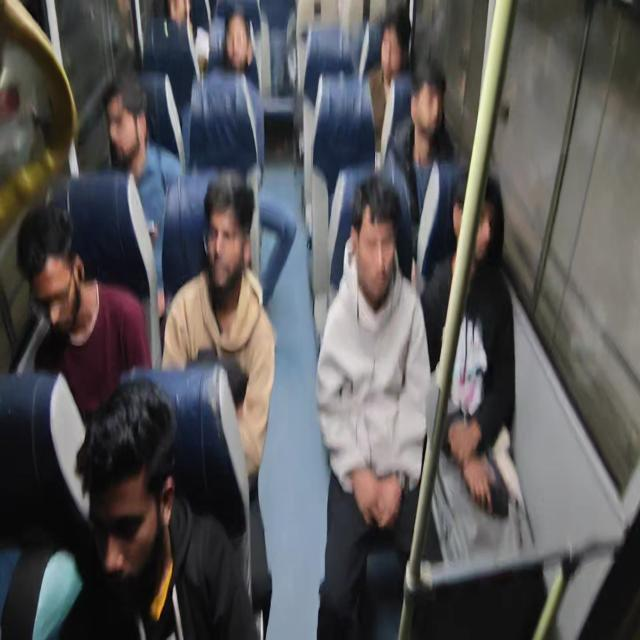person: (11, 2, 529, 637), (315, 173, 432, 638), (161, 172, 276, 635), (56, 377, 259, 638), (421, 171, 517, 564), (16, 201, 152, 426), (100, 71, 184, 293), (382, 57, 461, 293), (188, 10, 265, 186), (367, 4, 414, 168), (142, 0, 205, 114)
